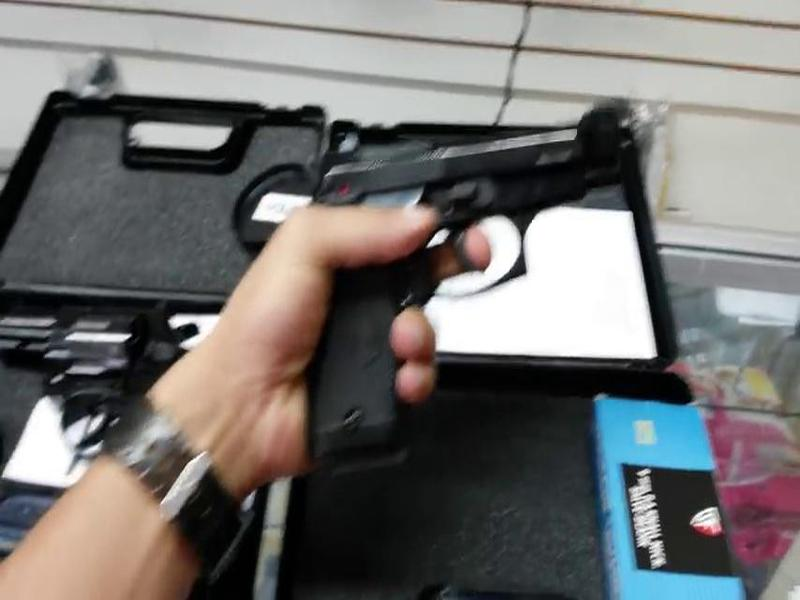Pistola: (283, 93, 625, 475)
